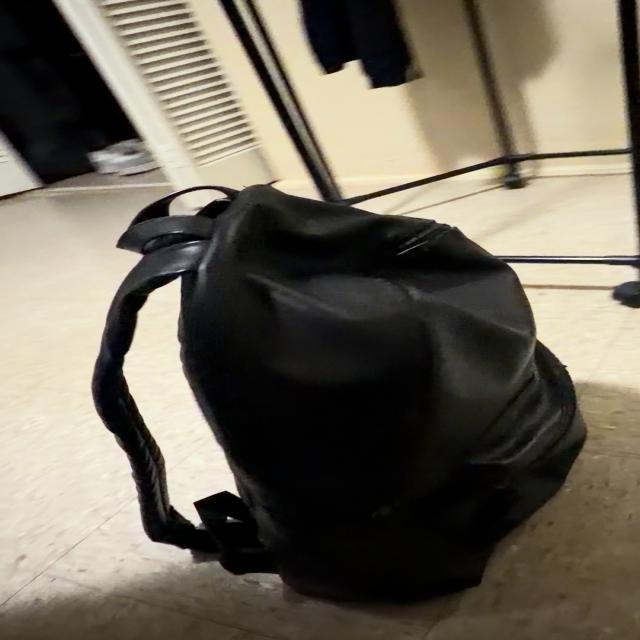backpack: (93, 185, 584, 600), (181, 191, 184, 193), (186, 190, 192, 190)
